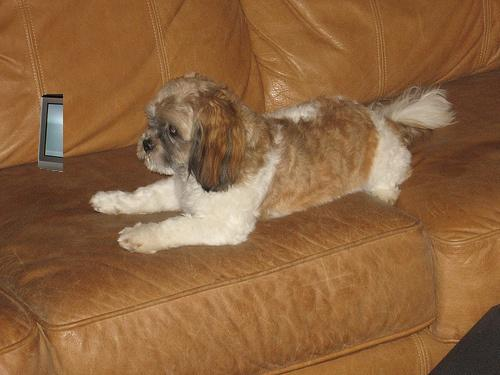tampered: (39, 95, 63, 172)
